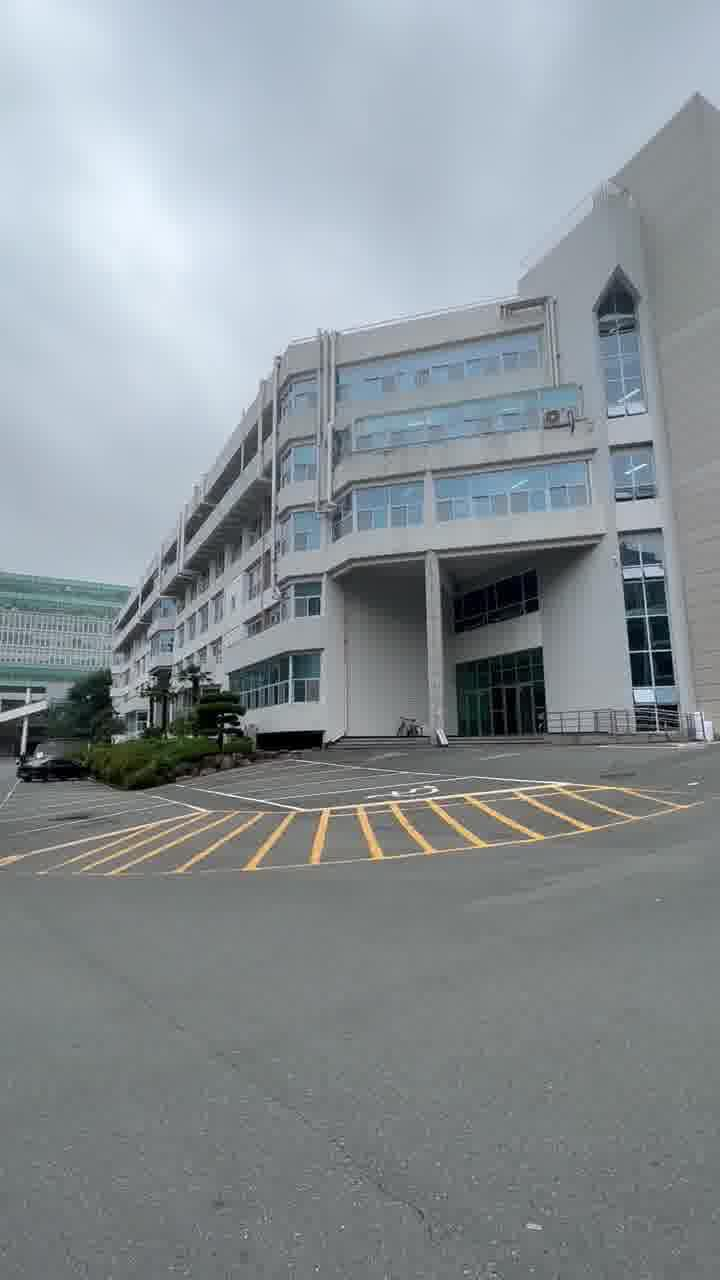building: (182, 302, 720, 728)
